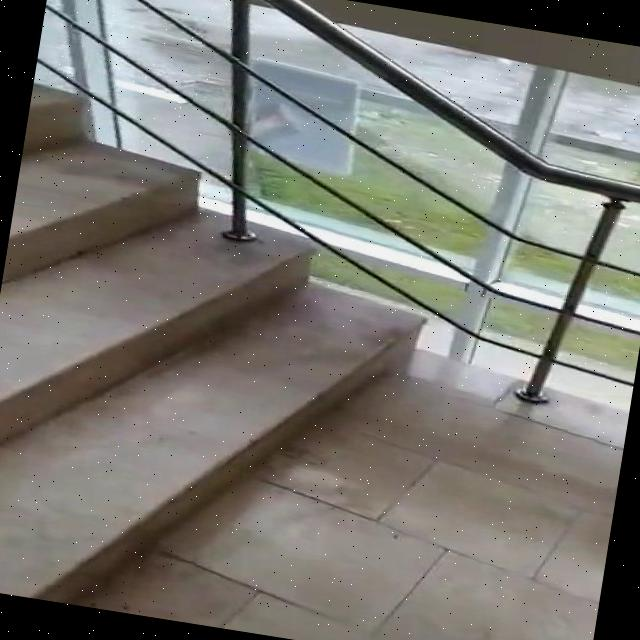stairs: (0, 79, 456, 640)
